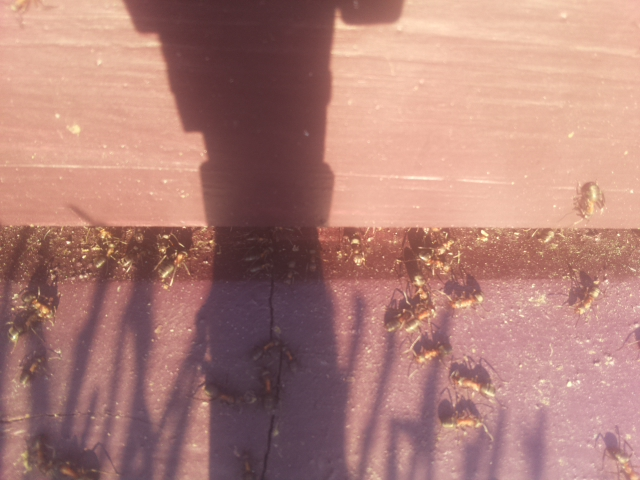ant: (250, 321, 307, 376), (588, 423, 640, 480), (428, 400, 485, 434), (574, 174, 610, 225), (445, 370, 499, 401), (571, 275, 602, 324), (158, 246, 191, 291), (408, 341, 453, 369), (16, 349, 51, 384), (254, 364, 278, 413), (231, 444, 258, 480), (55, 458, 99, 480), (450, 289, 486, 311)
